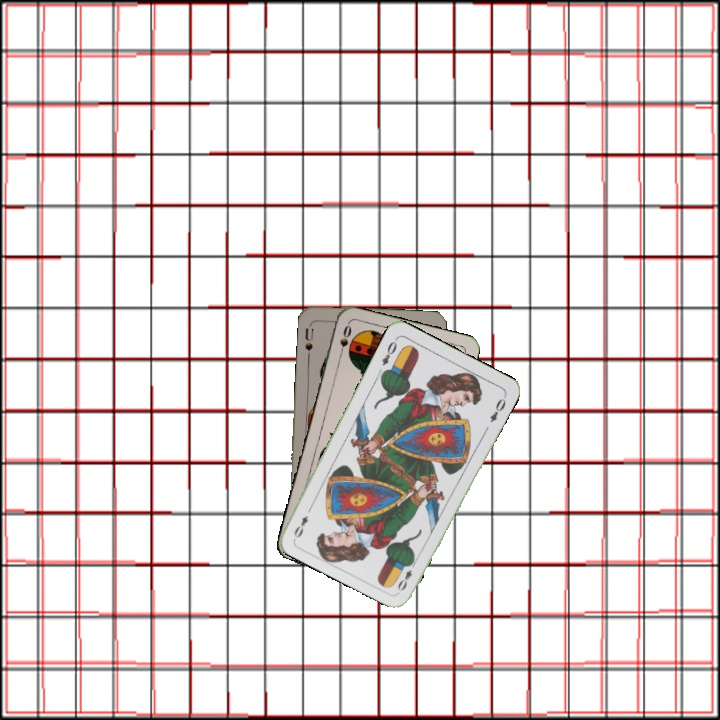EO: (393, 556, 419, 594), (378, 334, 400, 368)
SO: (335, 320, 354, 360)
SU: (301, 324, 316, 353)
